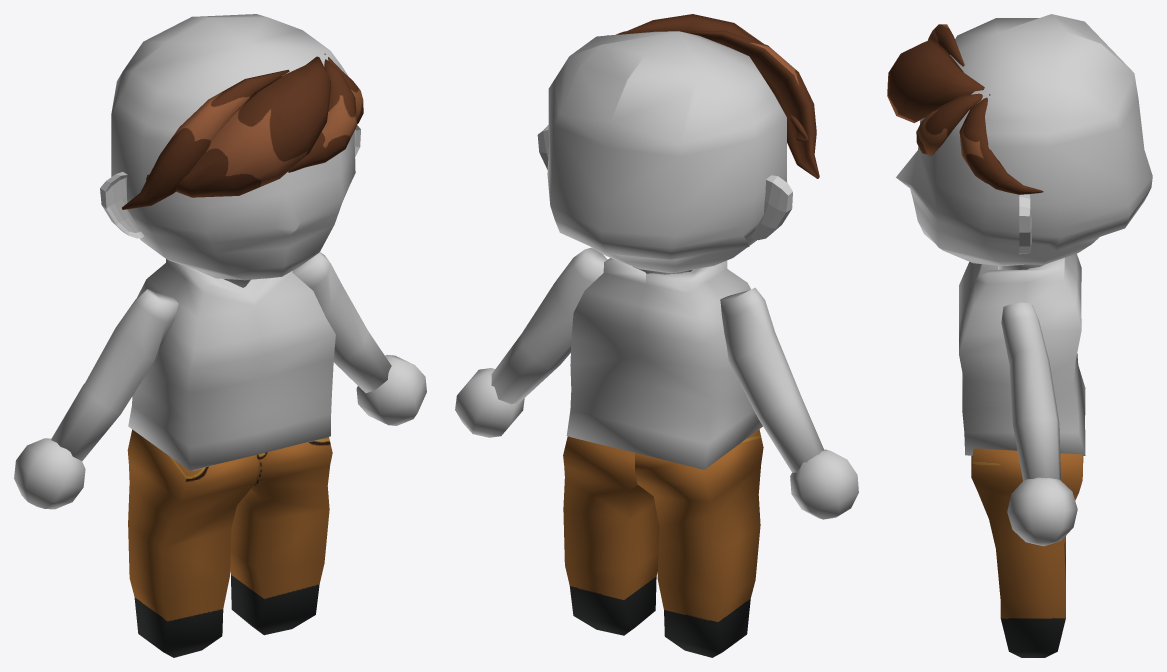
File: Leozinho.atual.blend.fbx
The picture shows the model from 3 angles, left to right: view 1: azimuth 30°, elevation 25°; view 2: azimuth 150°, elevation 25°; view 3: azimuth 270°, elevation 25°; orthographic projection. The views are drawn at different scales.
Visible parts, largest first — view 1: Head; view 2: Head; view 3: Head.
Part boxes in pixels (x1=…): Head: x1=14, y1=14, x2=426, y2=657; Head: x1=455, y1=14, x2=858, y2=657; Head: x1=887, y1=14, x2=1152, y2=657.
Size of the model in its own units: 970 by 1408 by 567.
